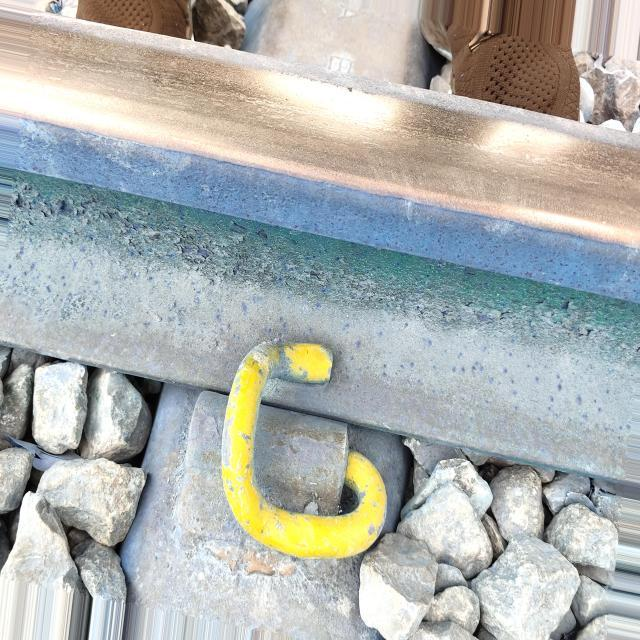Good Fasteners: (159, 323, 400, 584)
